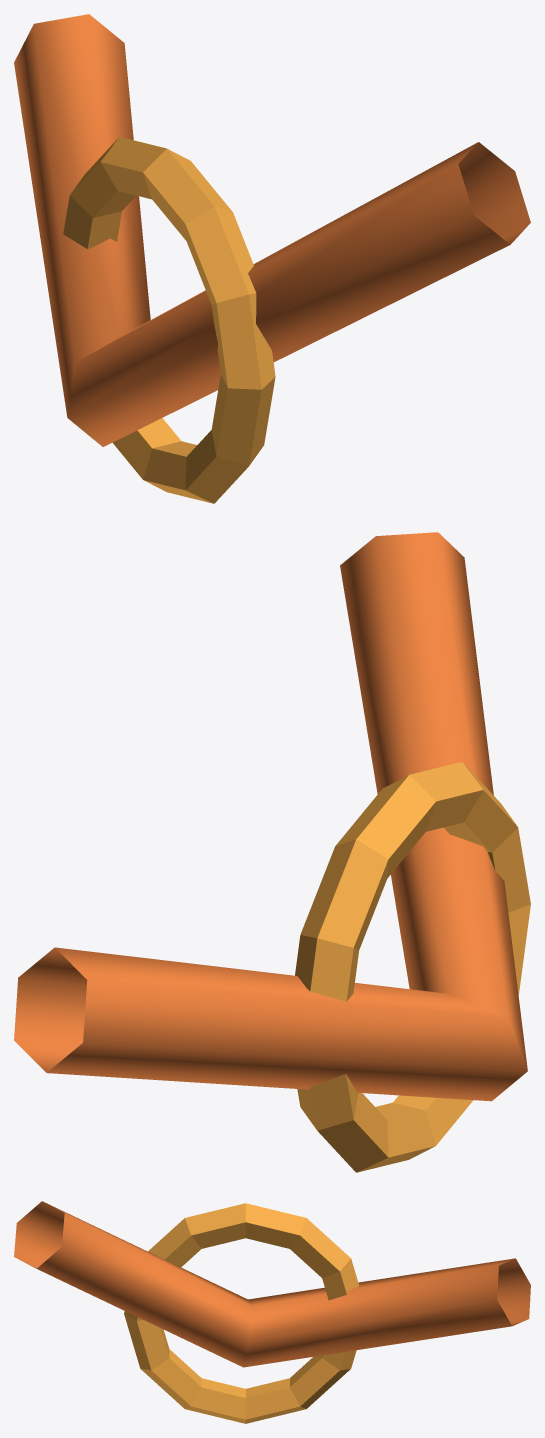
File: Repair_CableTieBundle.glb
3 renders of one model, top to bottom at view 1: azimuth 30°, elevation 25°; view 2: azimuth 150°, elevation 25°; view 3: azimuth 270°, elevation 25°, orthographic. The views are drawn at different scales.
Parts seen in each view (by area): view 1: Repair_CableTieBundle, Repair_CableTieBundle_Tie; view 2: Repair_CableTieBundle, Repair_CableTieBundle_Tie; view 3: Repair_CableTieBundle, Repair_CableTieBundle_Tie.
Boxes of the visible parts, box(x1,y1,x2,y2) form: Repair_CableTieBundle: box(14, 14, 530, 446); Repair_CableTieBundle_Tie: box(63, 137, 275, 503); Repair_CableTieBundle: box(14, 532, 527, 1101); Repair_CableTieBundle_Tie: box(295, 761, 530, 1172); Repair_CableTieBundle: box(14, 1201, 530, 1367); Repair_CableTieBundle_Tie: box(124, 1203, 359, 1423).
Size of the model in its own units: 0.2211 by 0.2828 by 0.5009.
